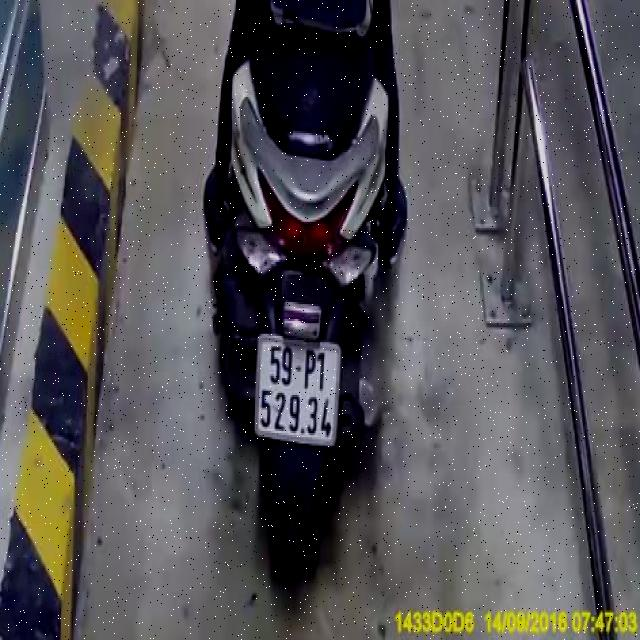1: (316, 346, 329, 398)
2: (273, 390, 289, 434)
3: (305, 392, 318, 440)
4: (321, 394, 336, 441)
5: (258, 385, 272, 428), (269, 342, 282, 388)
9: (280, 341, 295, 387), (288, 390, 303, 435)
P: (301, 346, 317, 394)
